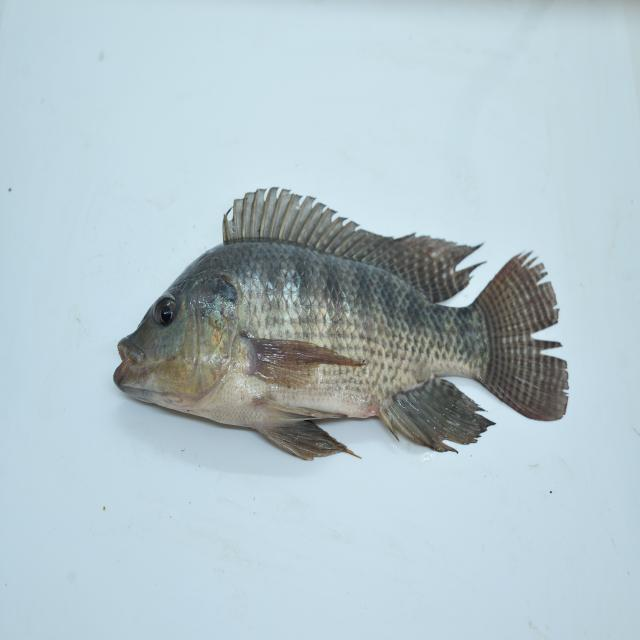Healthy Fish: (95, 182, 584, 470)
